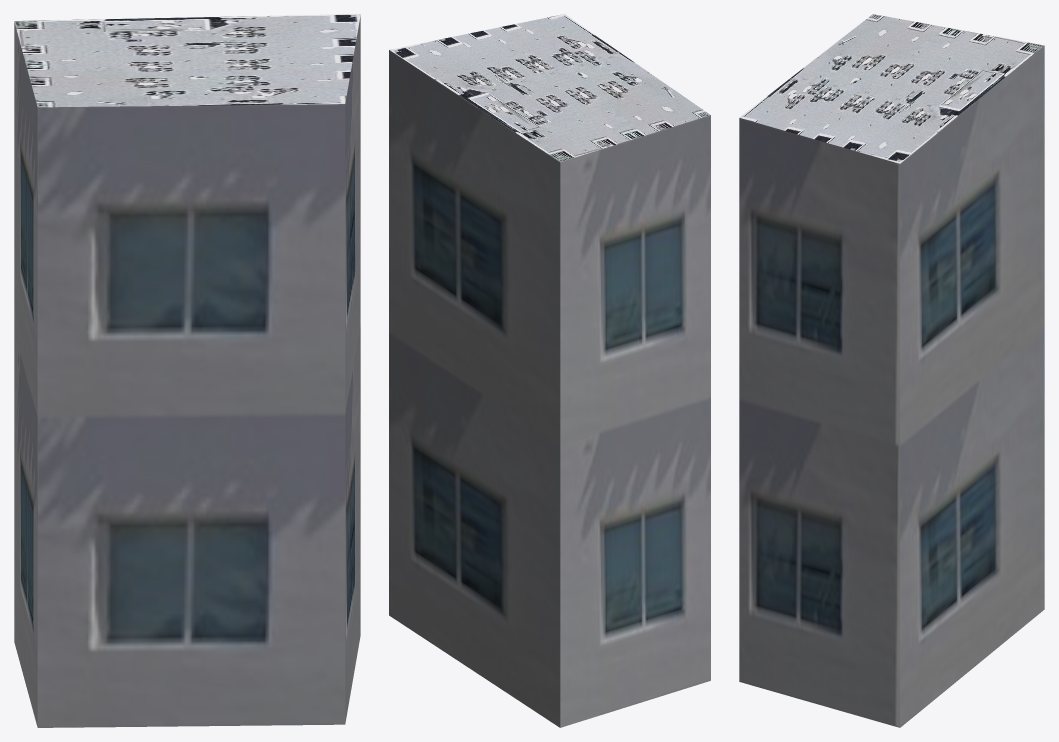
Rendered from ResTex__3586.fbx.
3 views of the same model, side by side, from view 1: azimuth 30°, elevation 25°; view 2: azimuth 150°, elevation 25°; view 3: azimuth 270°, elevation 25° (orthographic). The views are drawn at different scales.
Visible parts, largest first — view 1: CityEngineMaterial_10_m, CityEngineMaterial_2_m; view 2: CityEngineMaterial_10_m, CityEngineMaterial_2_m; view 3: CityEngineMaterial_10_m, CityEngineMaterial_2_m.
Boxes of the visible parts, <box> form: CityEngineMaterial_10_m: <box>14,16,360,727</box>; CityEngineMaterial_2_m: <box>14,14,360,107</box>; CityEngineMaterial_10_m: <box>389,50,710,727</box>; CityEngineMaterial_2_m: <box>389,14,710,162</box>; CityEngineMaterial_10_m: <box>739,45,1044,727</box>; CityEngineMaterial_2_m: <box>739,14,1044,163</box>.
Bounding box in the file's own units: 3.42 × 6 × 2.94.
Materials: 2 (2 with a texture image).
